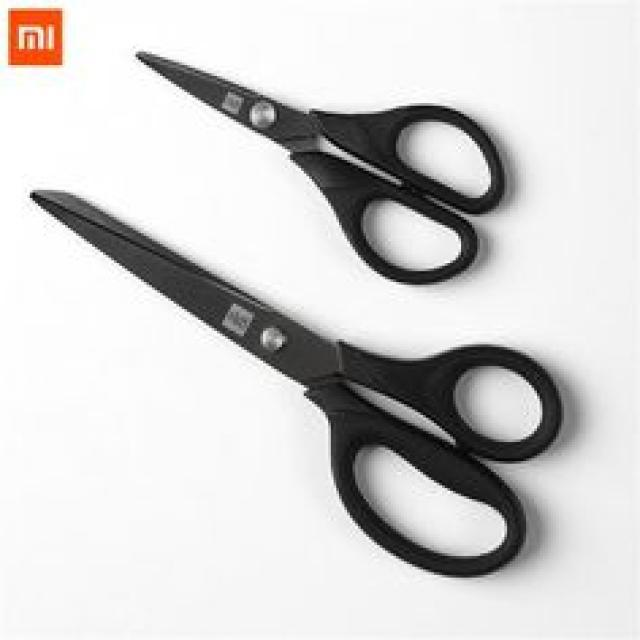tesoura: (16, 169, 594, 604), (111, 20, 518, 296)
